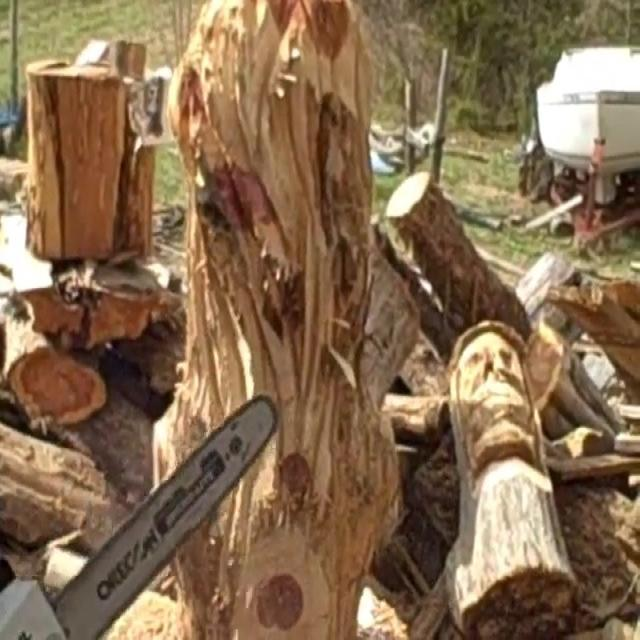Chainsaw: (0, 376, 294, 640)
